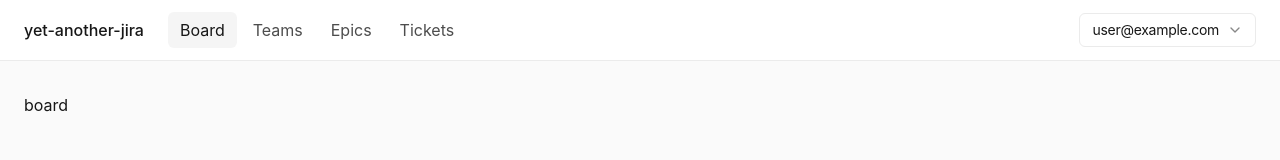
Test case: AppShell user menu › userMenu_shouldRevealEmailAndLogout_whenOpened
Click the button with aria-label "user menu" at (1168, 30), box [1079, 13, 1256, 47]
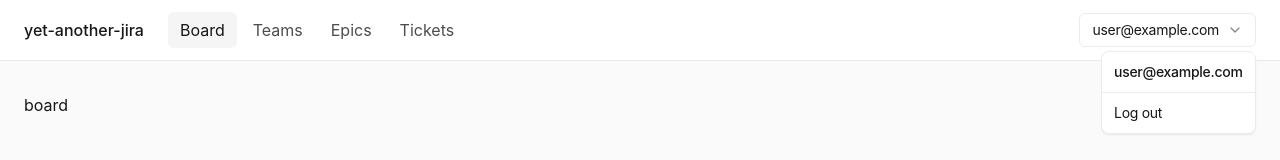
Expected: the menu item "Log out" is shown, [1114, 104, 1162, 121]
